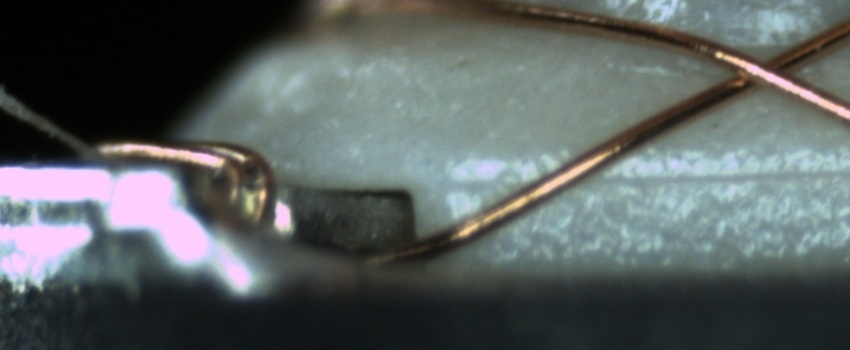CL: (711, 39, 818, 100)
DL: (449, 149, 849, 212)
TE: (88, 128, 281, 240)
